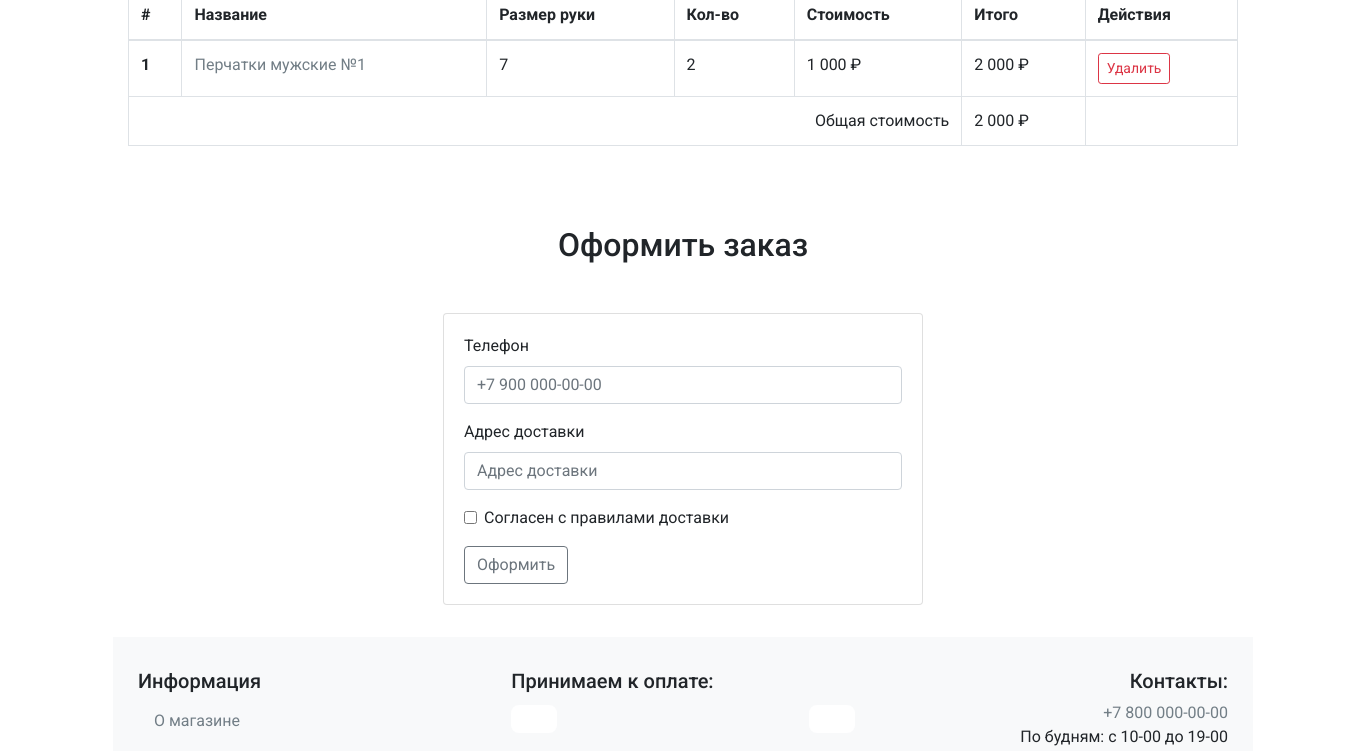
Оформление заказа › цена поменялась прямо перед отправкой — заказ не уходит, покупатель решает
(page scrolled)
Check: the text "Цена изменилась" is not shown
Type "8 (912) 345-67-89" into the field labelled "Телефон" at point(683, 385), box [464,366,902,404]
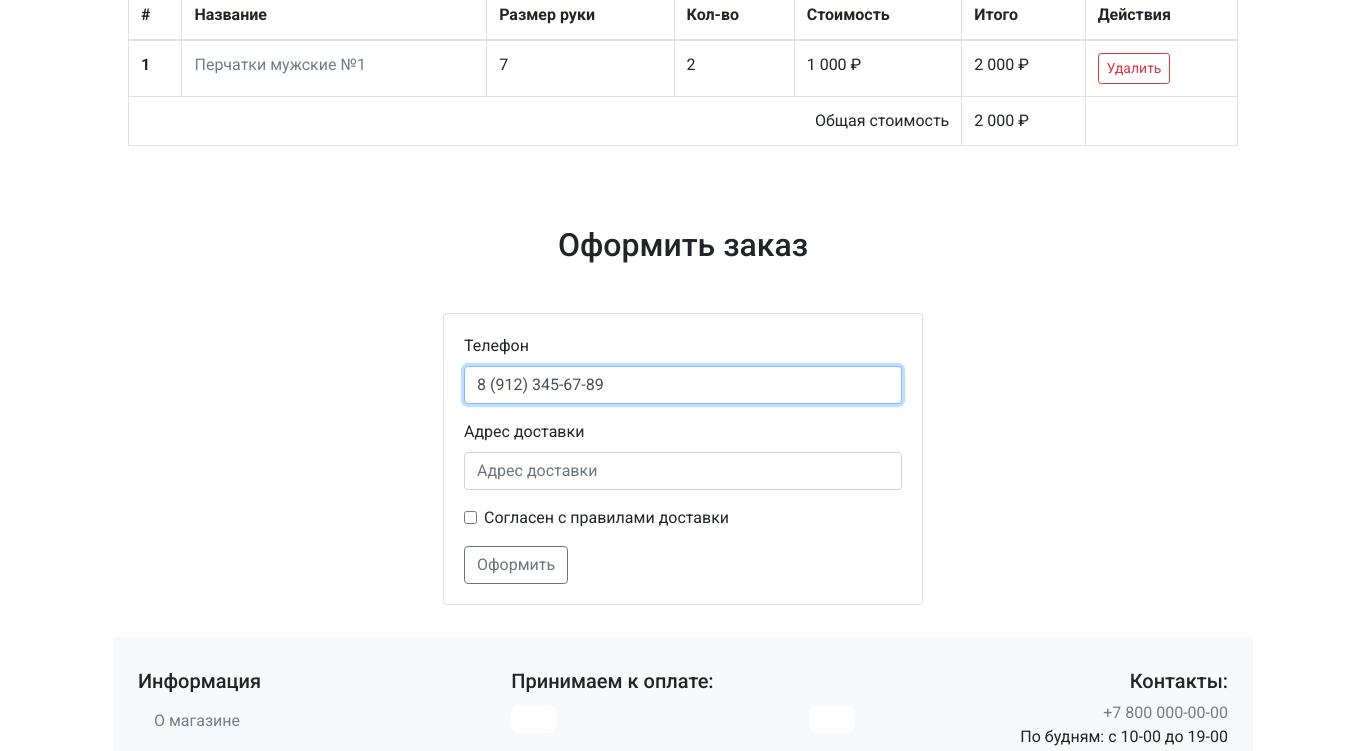
Type "Вологда, ул. Мира, 1" into the field labelled "Адрес доставки" at point(683, 471), box [464,452,902,490]
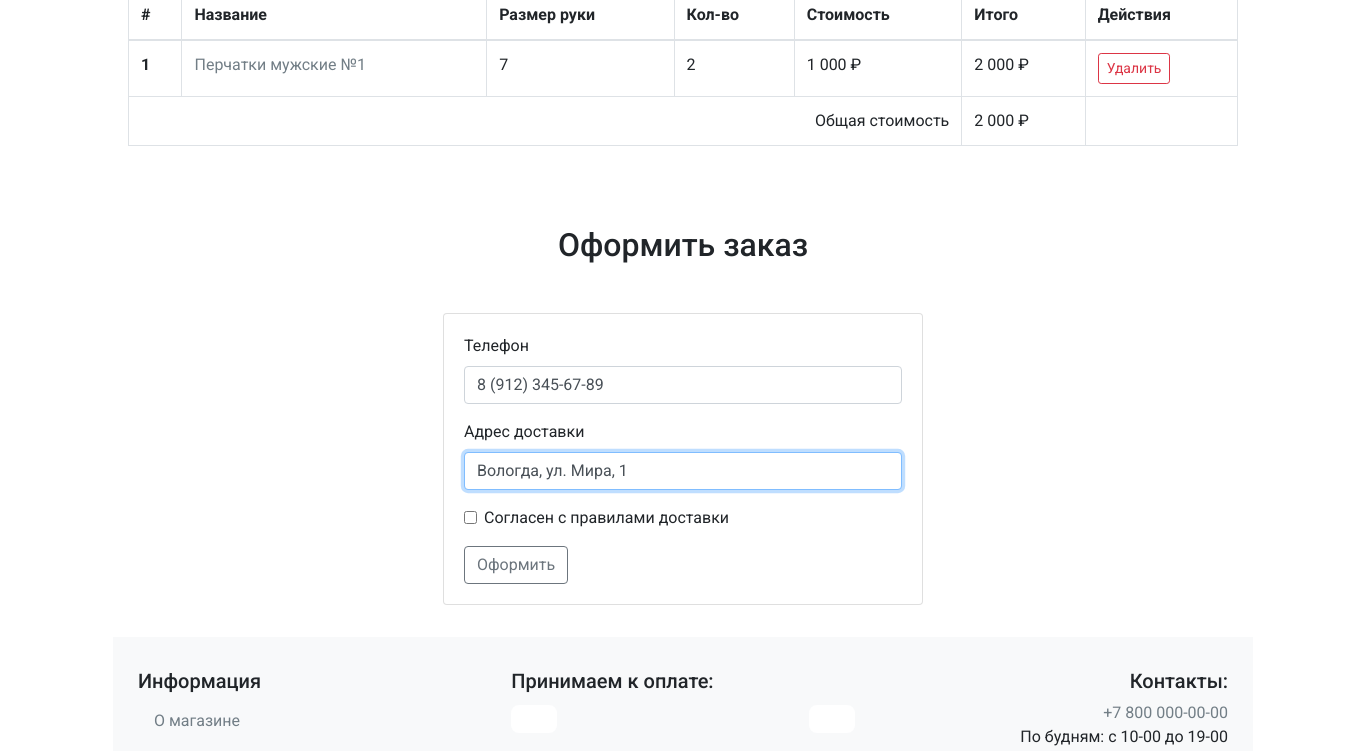
Click the checkbox labelled "Согласен с правилами доставки" at point(470, 517), box [464,511,477,524]
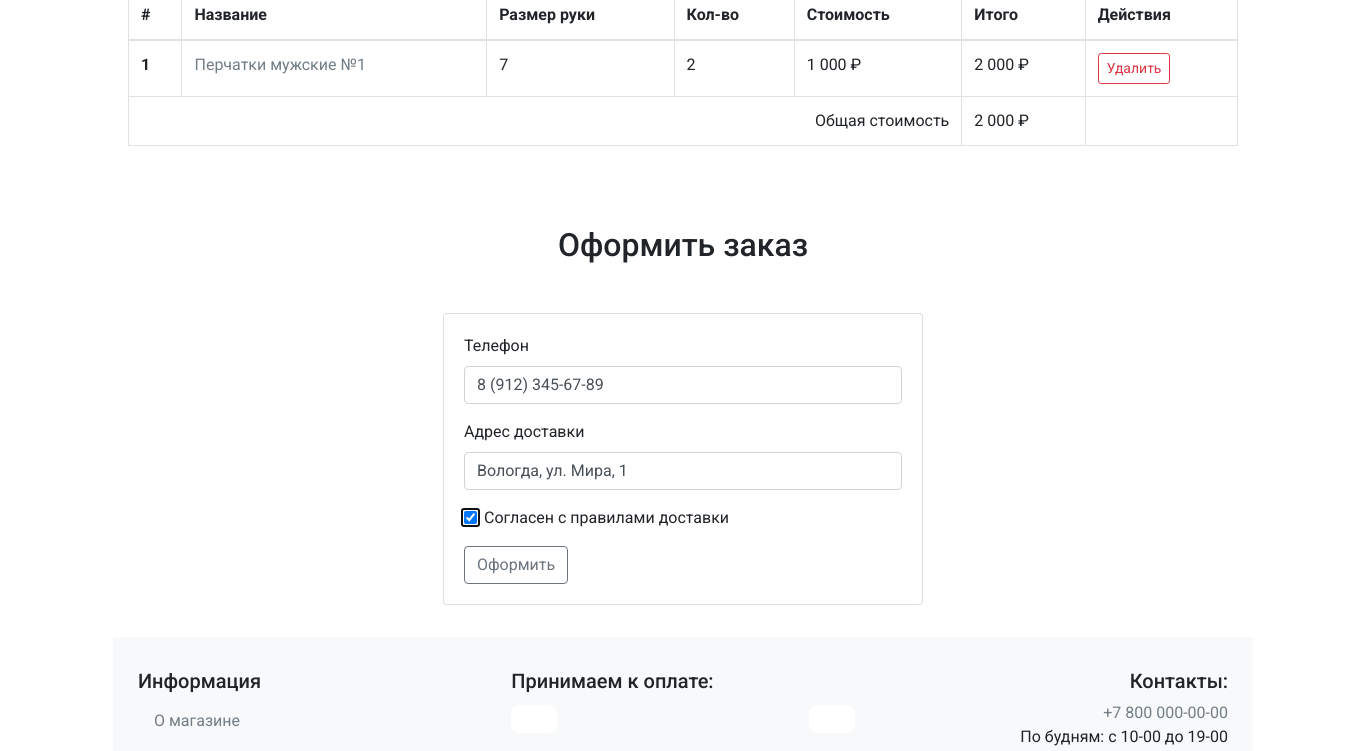
Click the button "Оформить" at point(516, 565), box [464,546,568,584]
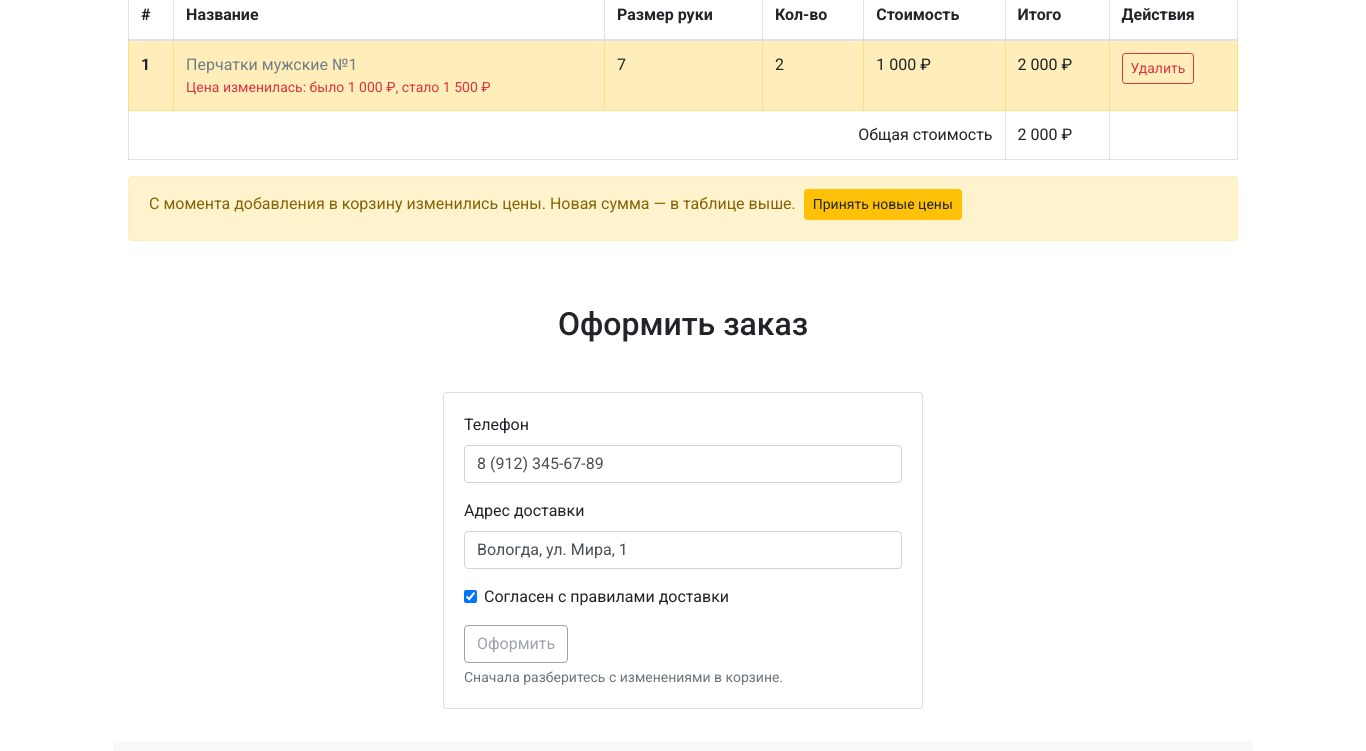
Check: the text "Цена изменилась: было 1 000 ₽, стало 1 500 ₽" is shown, box [186,79,491,95]
